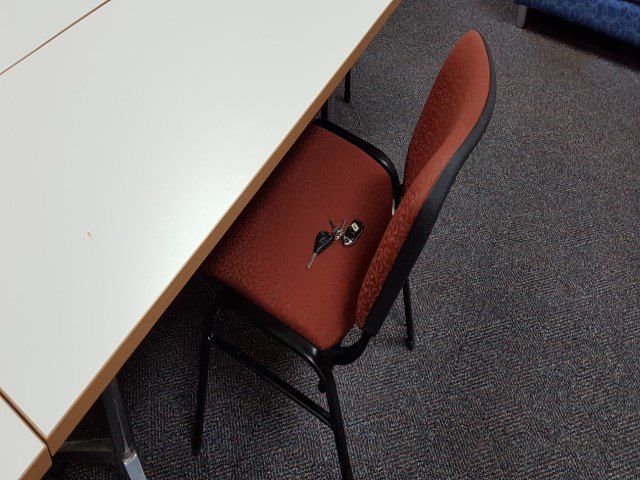key: (305, 229, 335, 268)
